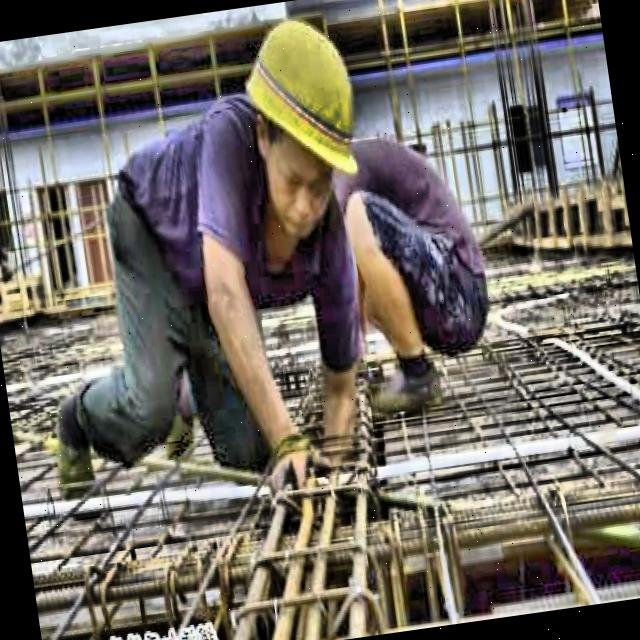helmet: (221, 0, 387, 249)
